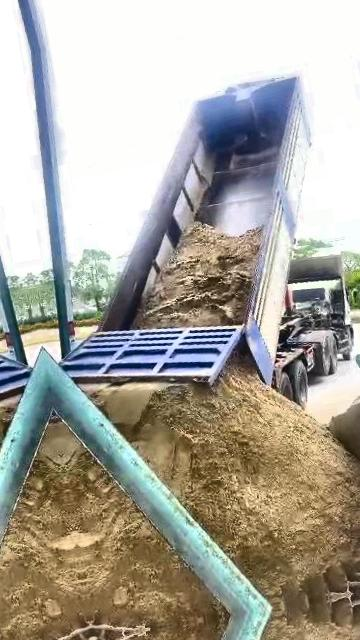sand: (96, 364, 360, 607), (63, 447, 224, 628), (133, 222, 261, 328), (329, 391, 360, 479), (56, 423, 83, 467)
